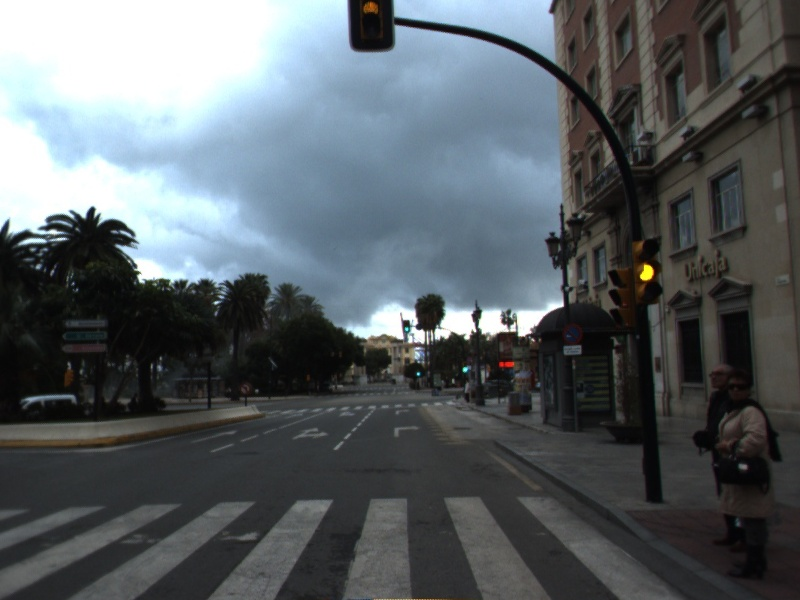RIGHT: (391, 422, 424, 440)
STRAIGHT: (187, 427, 240, 446)
STRAIGHT_RIGHT: (288, 425, 332, 442)
